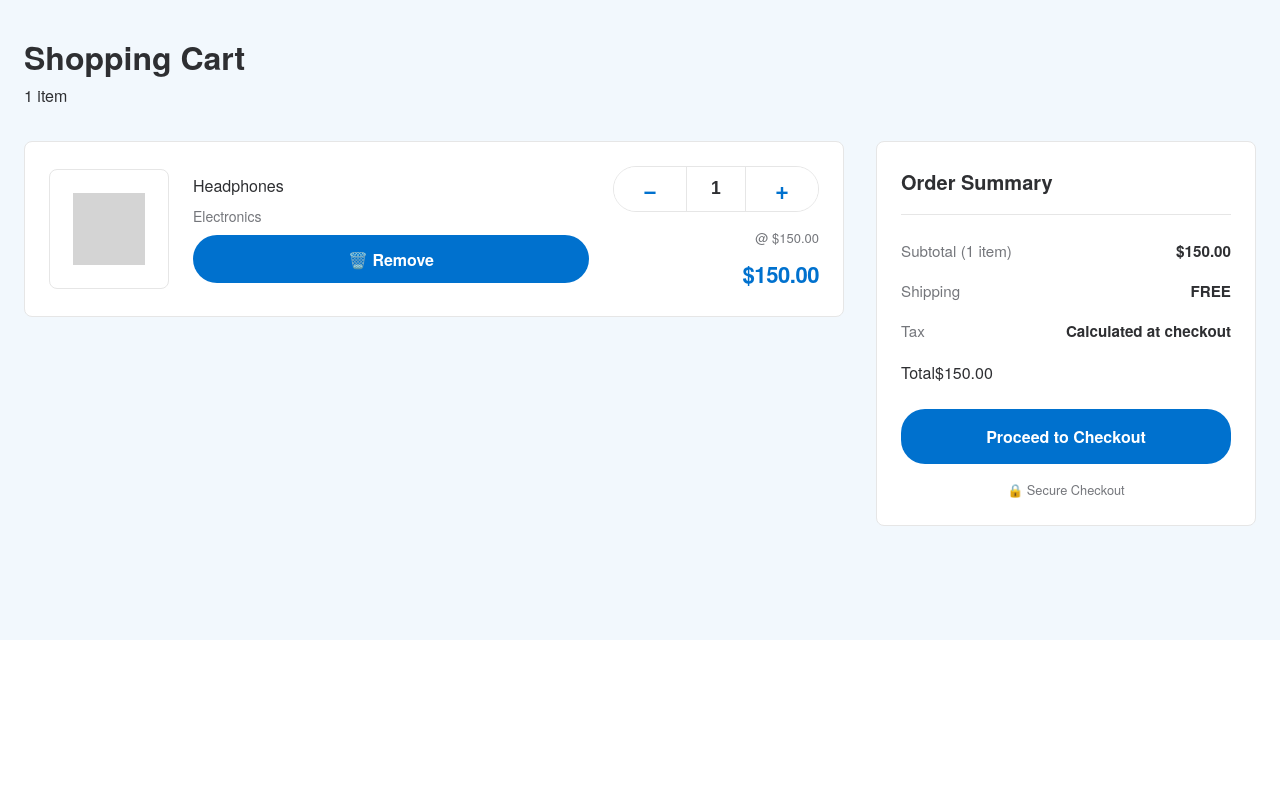
Scenario: Cart Integration Tests › removes product from cart when remove button is clicked
Check: the heading "Headphones" is shown, box [193, 174, 284, 197]
// Click remove button
Step 1. Click the button "🗑️ Remove" → click(391, 259), box [193, 236, 589, 283]
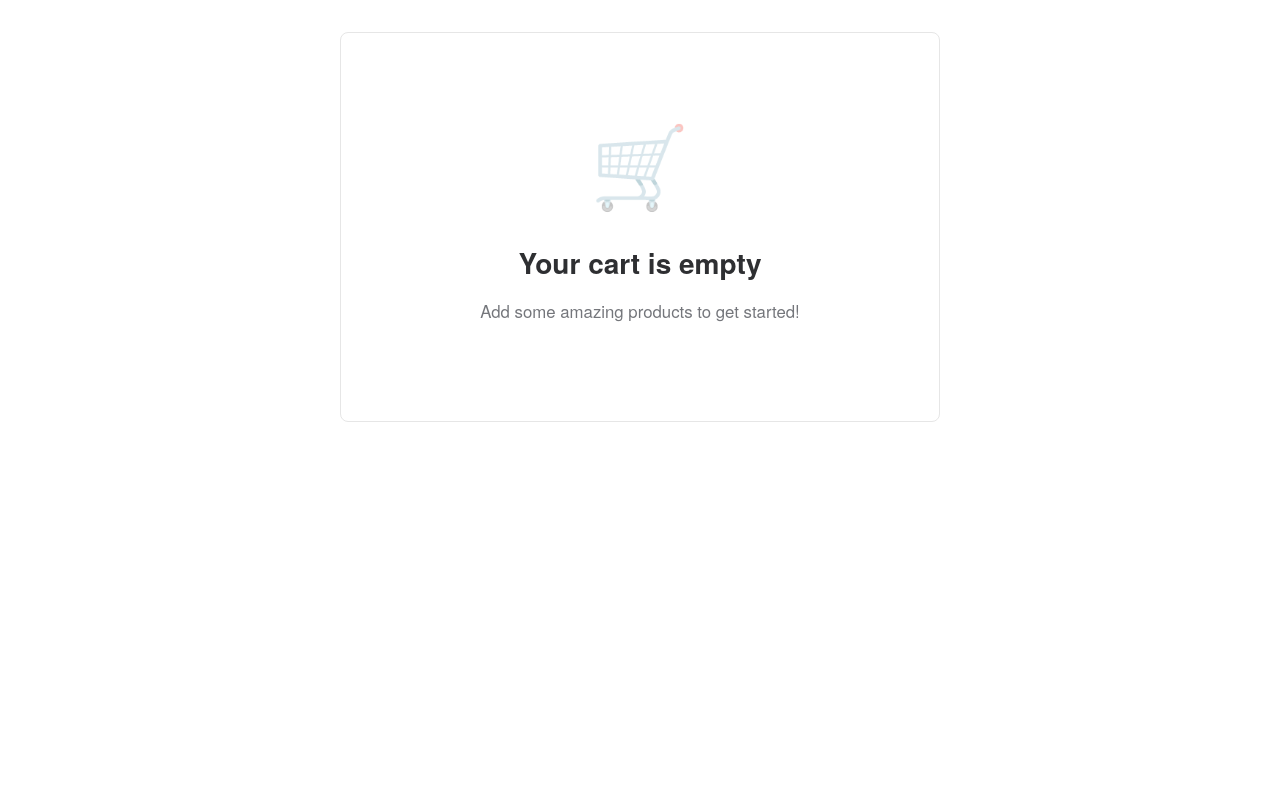
Check: the heading "Your cart is empty" is shown, box [518, 242, 761, 283]
Check: the heading "Headphones" is gone
